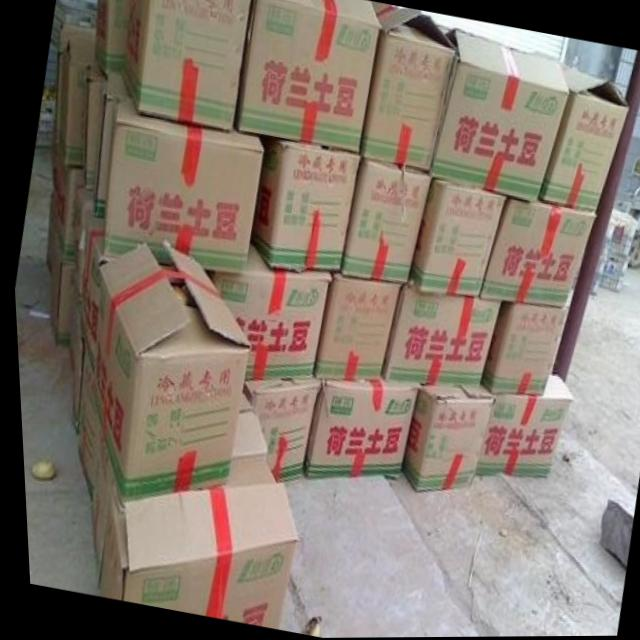box: (88, 392, 293, 630), (90, 238, 247, 498), (99, 99, 262, 272), (428, 30, 570, 201), (238, 0, 380, 155), (119, 0, 250, 133), (210, 245, 327, 380), (361, 10, 456, 172), (249, 142, 358, 272), (536, 70, 630, 214), (478, 197, 594, 307), (300, 373, 417, 478), (379, 284, 499, 386), (338, 157, 429, 285), (408, 178, 503, 296), (471, 376, 568, 480), (397, 386, 490, 493), (311, 273, 399, 379), (240, 375, 318, 482), (478, 303, 563, 394), (93, 70, 130, 219), (95, 0, 130, 77), (83, 58, 102, 191)
